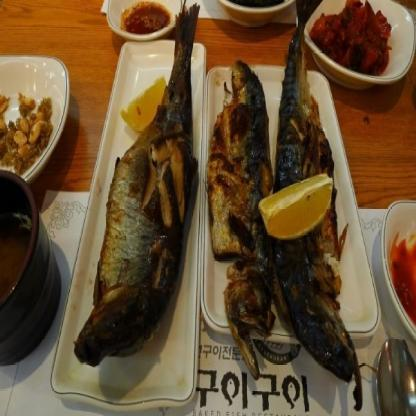Peixe: (64, 0, 209, 379), (279, 2, 382, 416), (204, 59, 280, 375)
